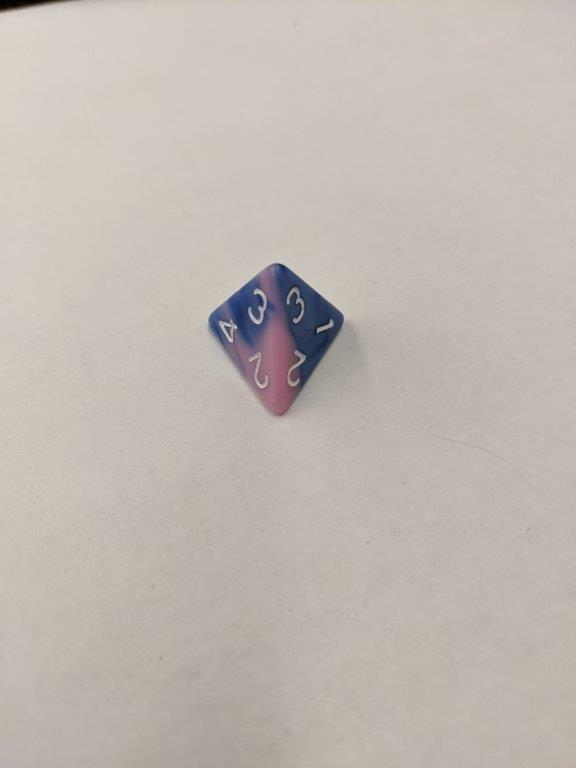d4-3: (202, 259, 347, 418)
